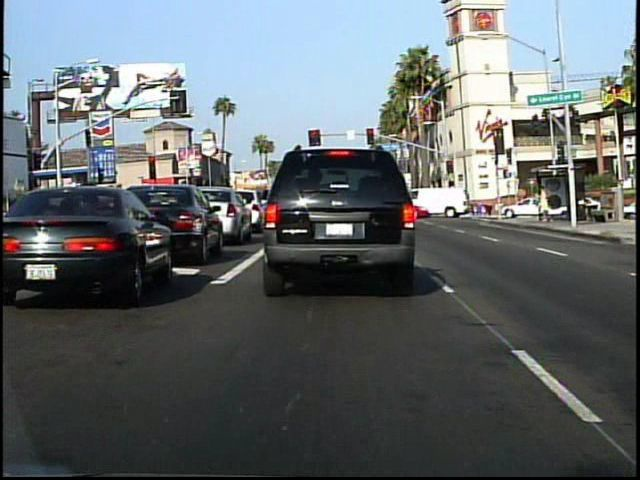person: (535, 183, 553, 225)
